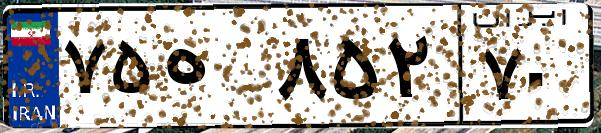0: (525, 38, 570, 115)
2: (385, 28, 445, 110)
5: (330, 28, 385, 110), (110, 28, 158, 98)
7: (57, 26, 110, 100), (475, 38, 525, 113)
8: (270, 28, 330, 110)
ه: (158, 20, 270, 120)
